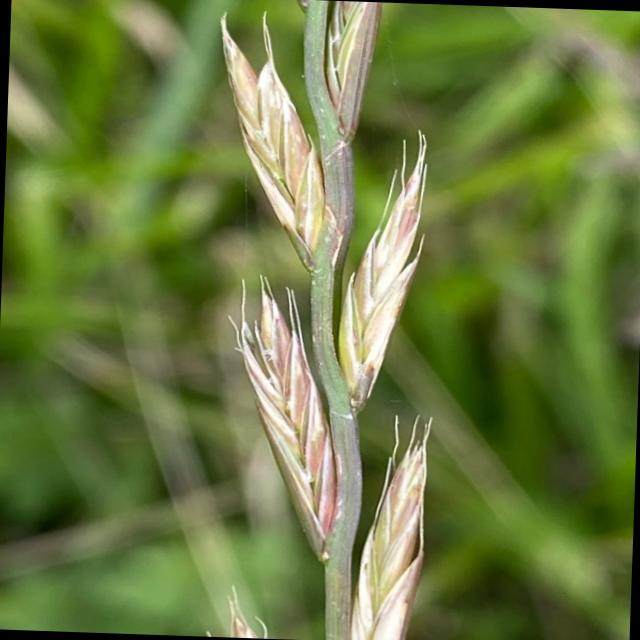Lolium: (193, 0, 452, 640)
